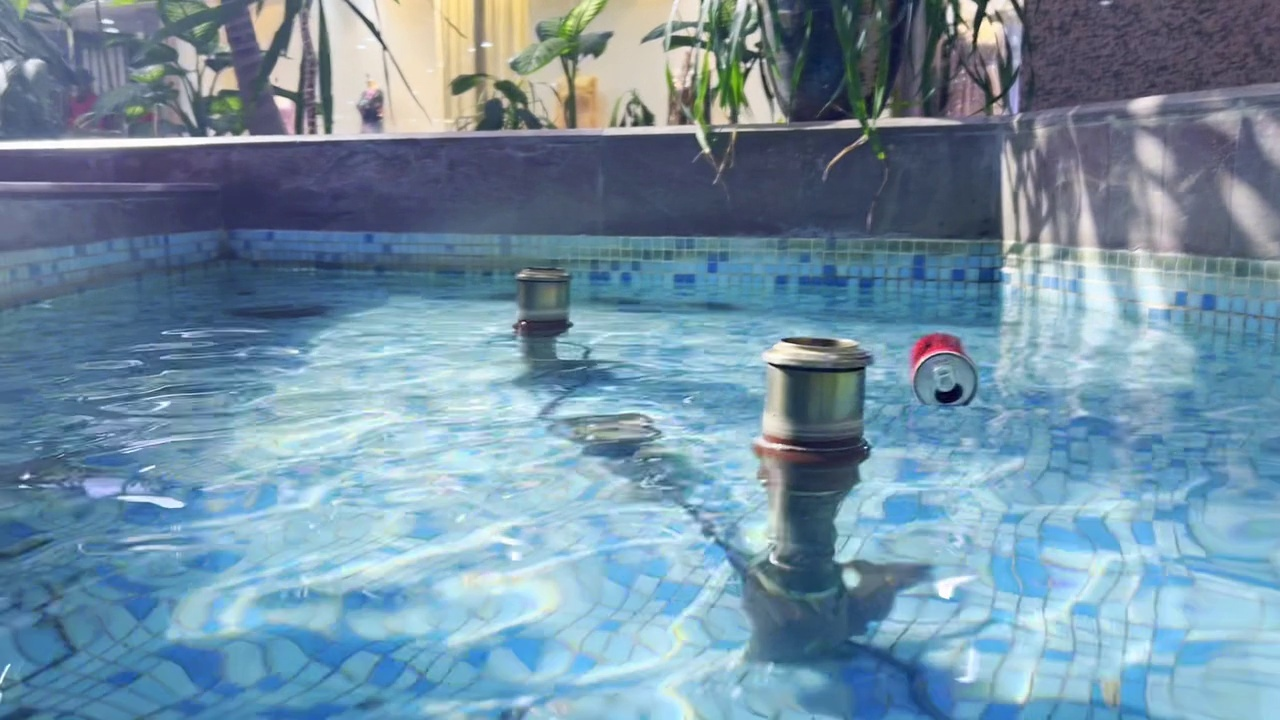debris: (903, 327, 988, 417)
